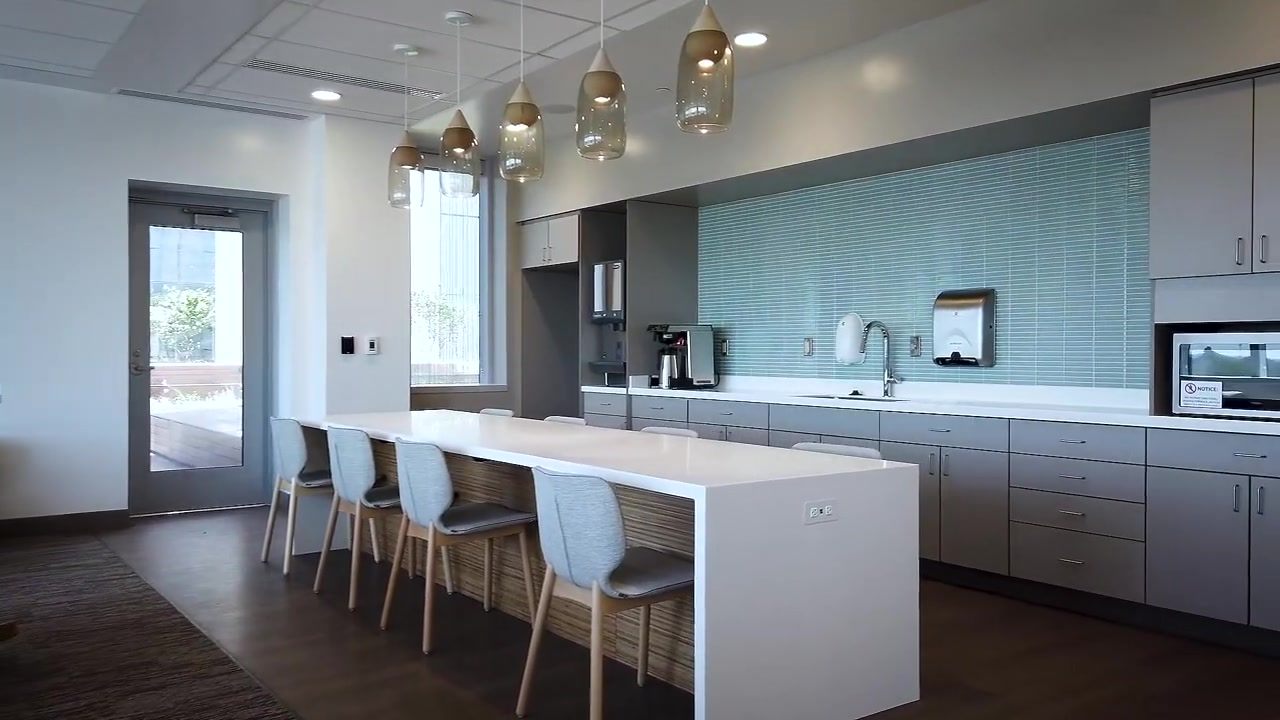cabinet: (520, 211, 579, 273)
chair: (515, 466, 695, 720), (380, 437, 539, 655), (313, 425, 453, 612), (261, 416, 381, 576)
counter: (291, 409, 920, 719), (652, 383, 1280, 633)
countertop: (292, 407, 917, 495), (650, 372, 1280, 428)
dispenser: (931, 287, 998, 369), (834, 313, 866, 365)
door_handle: (134, 363, 154, 372)
faucet: (859, 320, 901, 398)
handle: (1235, 236, 1244, 265), (1232, 452, 1268, 459), (1257, 485, 1265, 515), (1058, 473, 1086, 481), (1058, 509, 1086, 517), (1259, 235, 1267, 263), (1233, 483, 1240, 512), (1056, 558, 1084, 565), (942, 453, 949, 477), (928, 452, 935, 476), (1058, 439, 1087, 444), (928, 427, 951, 433), (548, 245, 554, 264), (544, 248, 548, 265), (649, 406, 664, 410), (719, 411, 733, 415), (599, 402, 612, 406), (719, 431, 724, 441), (727, 432, 732, 442)
sink: (797, 392, 910, 403)
